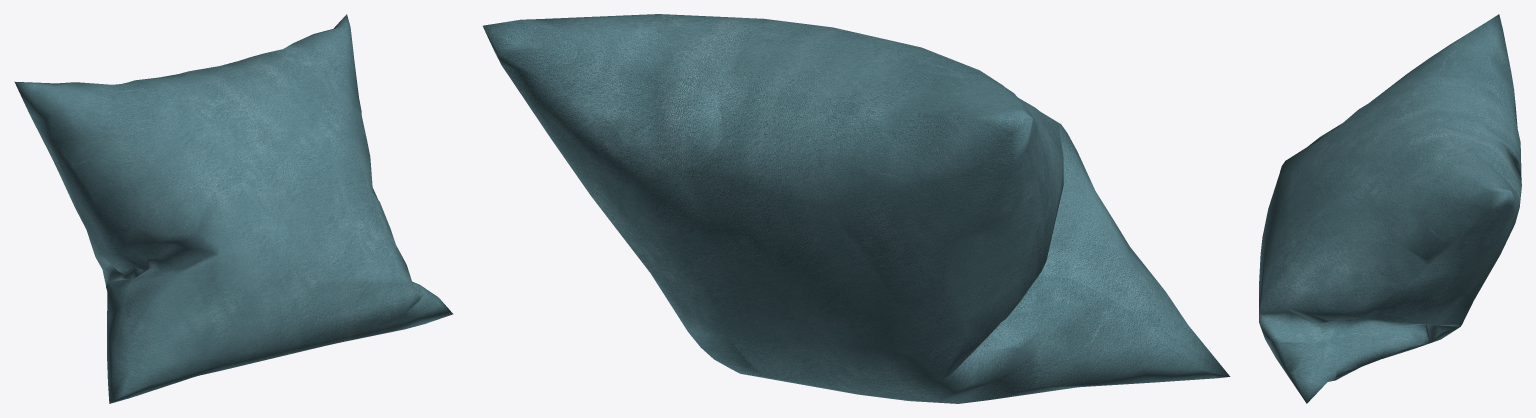
Rendered from Pillow 3.FBX.
The picture shows the model from 3 angles, left to right: view 1: azimuth 30°, elevation 25°; view 2: azimuth 150°, elevation 25°; view 3: azimuth 270°, elevation 25°; orthographic projection. The views are drawn at different scales.
Parts seen in each view (by area): view 1: pillow 3; view 2: pillow 3; view 3: pillow 3.
Part boxes in pixels (x1,y1,x2,y2): pillow 3: (14,14,453,403); pillow 3: (483,14,1230,403); pillow 3: (1259,14,1521,403).
Size of the model in its own units: 62.19 by 40.69 by 41.8.
1 material, 1 textured.
